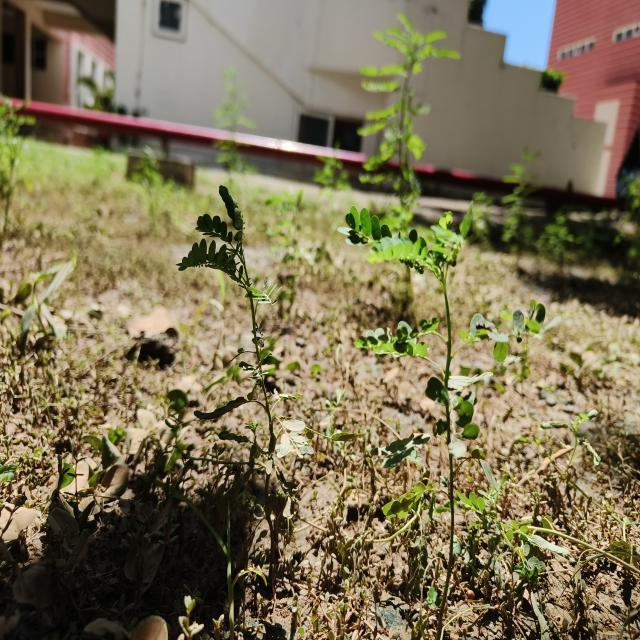weed: (352, 209, 504, 569), (173, 183, 276, 426)
